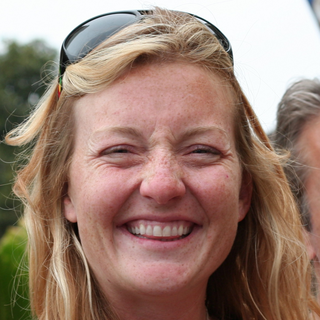eye: (95, 141, 144, 164), (179, 141, 225, 164)
